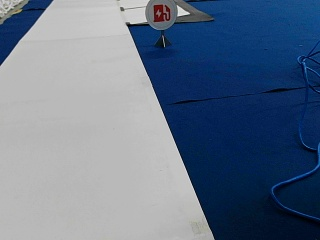battery: (144, 0, 178, 30)
